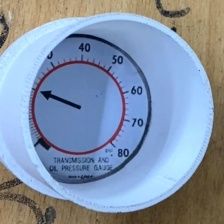gauge: (26, 34, 151, 185)
